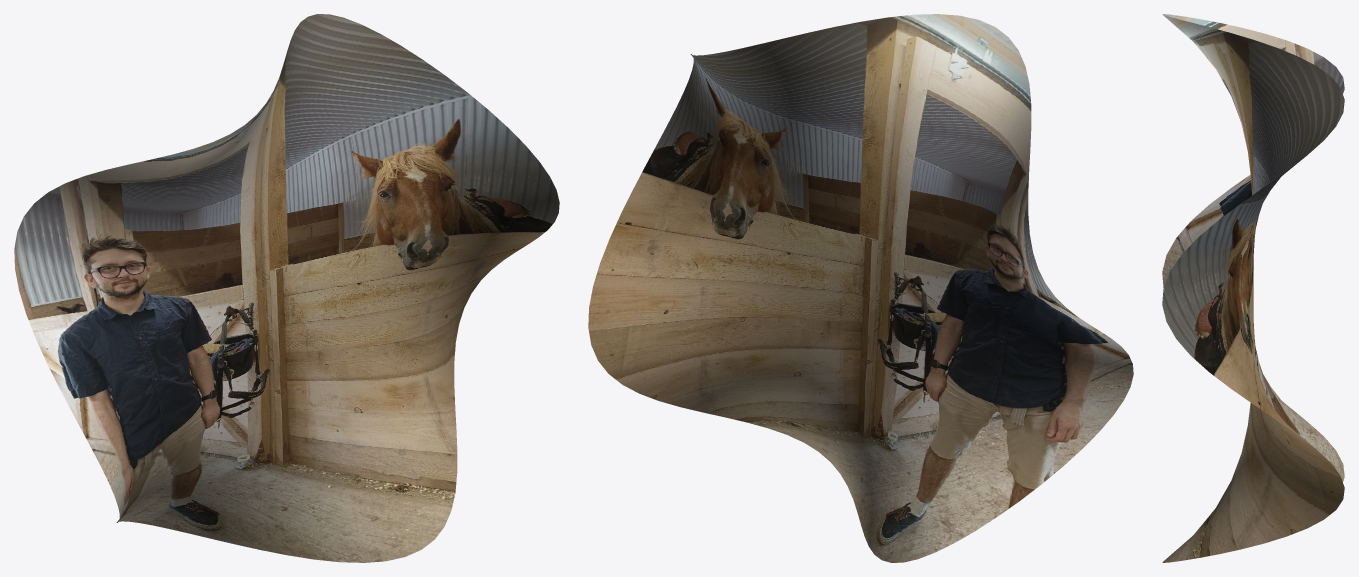
The model's file is MartensSurface.gltf.
3 views of the same model, side by side, from view 1: azimuth 30°, elevation 25°; view 2: azimuth 150°, elevation 25°; view 3: azimuth 270°, elevation 25° (orthographic).
Visible parts, largest first — view 1: sine; view 2: sine; view 3: sine.
Boxes of the visible parts, bbox=[...] form: sine: bbox=[14, 14, 559, 562]; sine: bbox=[588, 14, 1133, 562]; sine: bbox=[1162, 14, 1344, 562].
Bounding box in the file's own units: 6 × 6 × 2.
Materials: 1 (1 with a texture image).
